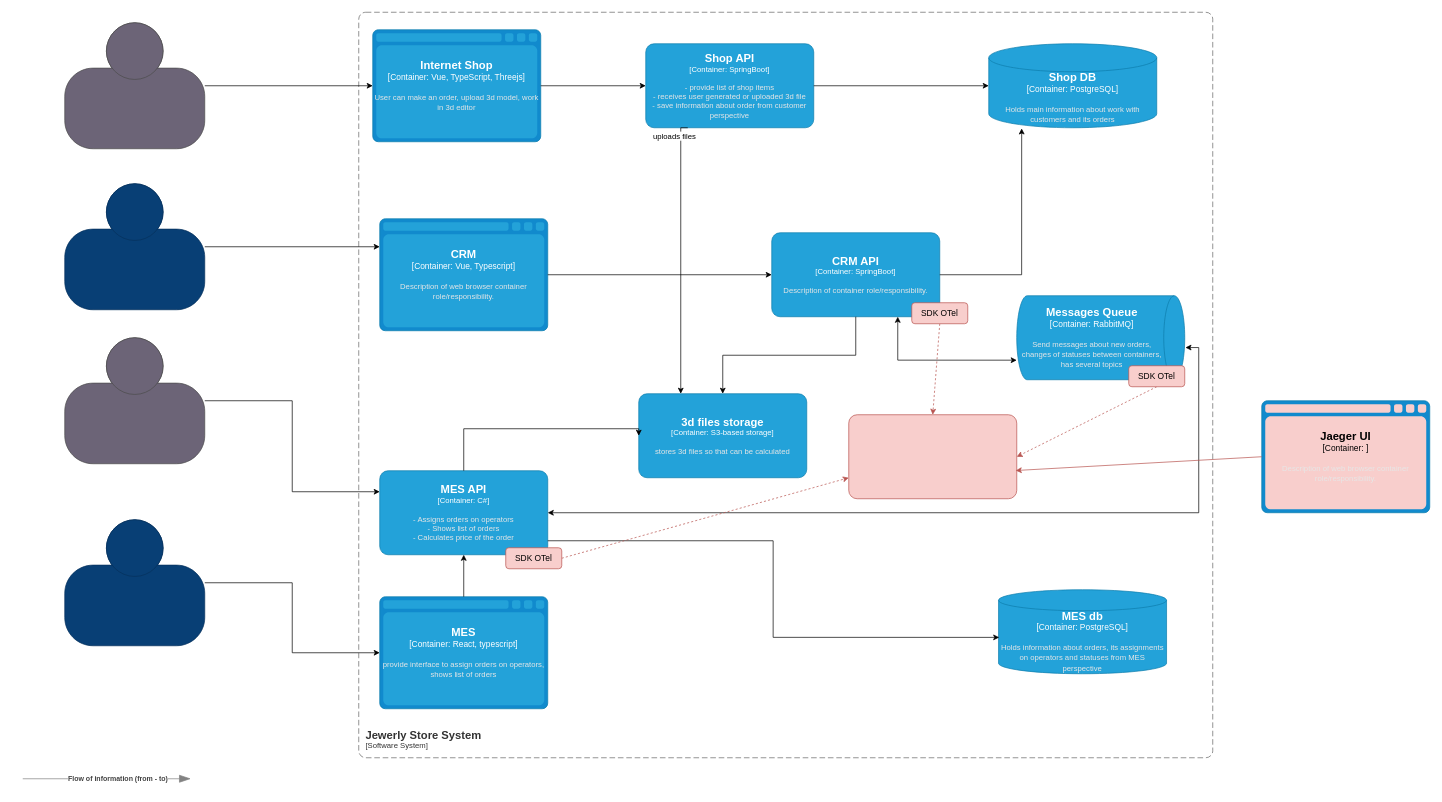
Image size: 1442x802. Some labels were removed from this diagram. Here are the shapes that lost their labels. From the top down, the centre of each, then its label:
the point at 134,85: Customer [Person] Description of external person.
the point at 134,246: Seller [Person] Operates with order, confirms manufacturing for the user
the point at 134,400: API user [Person] Description of external person.
the point at 932,456: Jaerger [Container: ] Description of container role/responsibility.
the point at 134,582: Operator [Person] Takes order in work, manufactures jewerly
